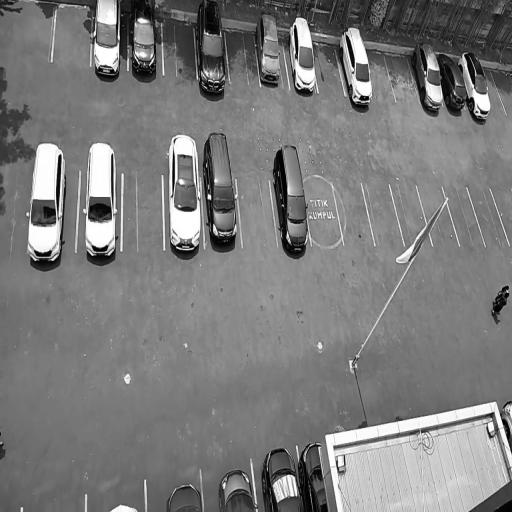Car: (25, 142, 69, 271), (165, 132, 205, 256), (83, 138, 120, 264), (200, 130, 238, 247), (192, 0, 231, 98), (335, 23, 379, 108), (406, 41, 449, 114), (456, 49, 498, 123), (284, 13, 319, 94), (260, 444, 300, 512), (92, 0, 122, 84), (130, 0, 160, 84), (435, 45, 471, 114), (253, 11, 285, 88), (299, 444, 331, 512), (215, 466, 257, 512), (166, 475, 203, 512), (498, 398, 512, 453)
Space Available: (122, 171, 163, 250), (236, 180, 278, 248), (442, 184, 487, 247), (361, 181, 404, 246), (389, 183, 433, 246), (333, 181, 375, 245), (417, 184, 459, 245), (52, 2, 93, 64), (304, 182, 343, 247), (467, 188, 509, 246), (162, 19, 197, 78), (225, 30, 261, 86), (384, 52, 420, 103), (313, 42, 345, 95), (366, 49, 396, 103), (480, 64, 506, 115), (491, 187, 512, 245), (490, 67, 512, 116)
